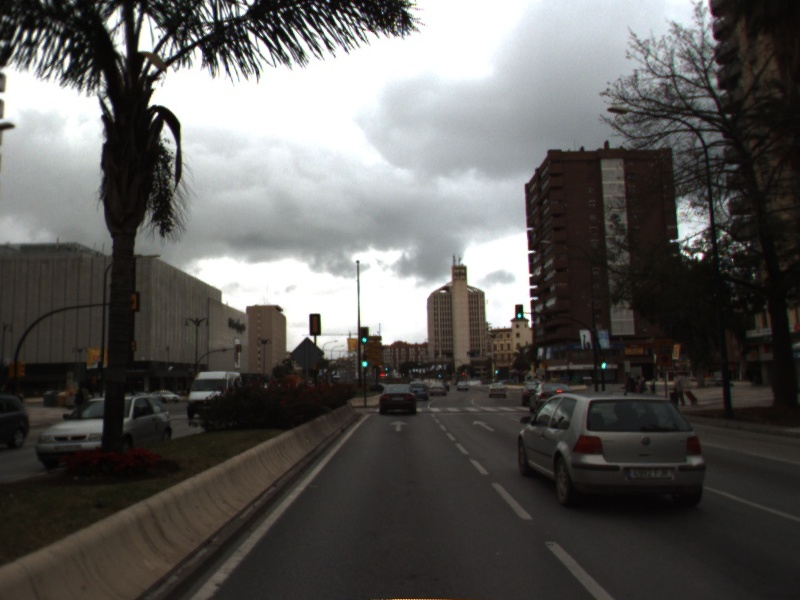STRAIGHT: (470, 418, 497, 433), (387, 418, 411, 433)
